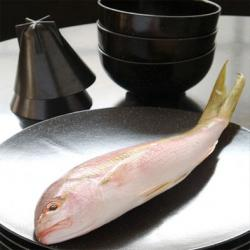fish: (31, 58, 246, 245)
